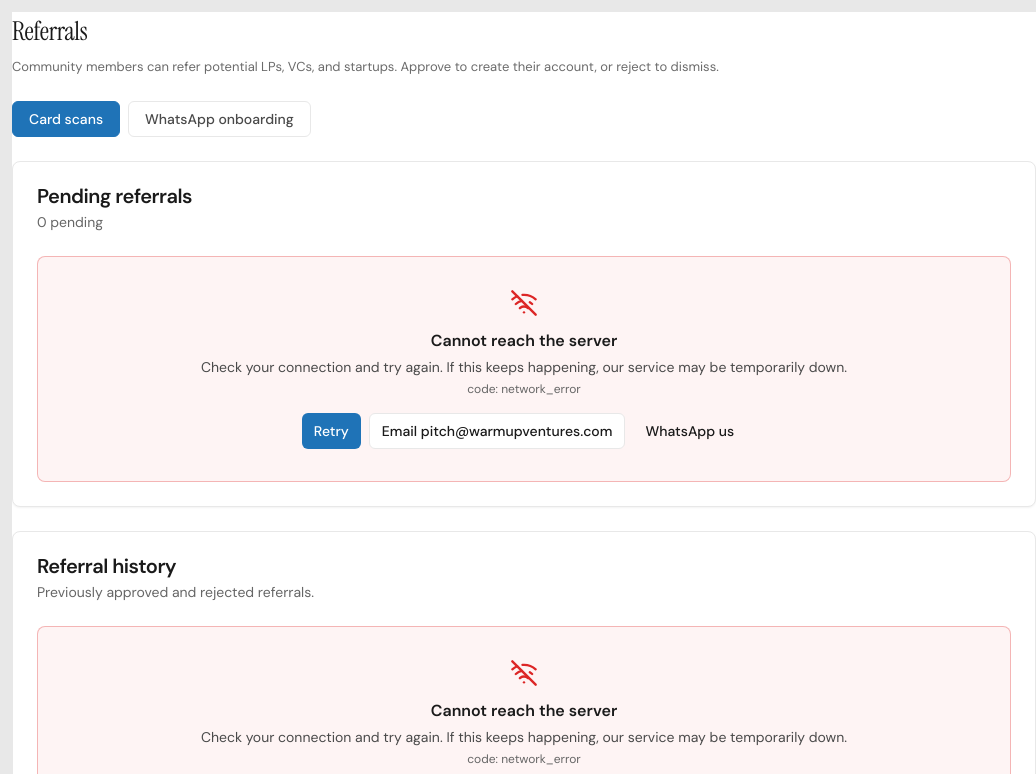
it: AdminReferralsPage — WhatsApp Onboarding tab › switching tabs swaps the URL ?tab= param
Expected: the tab with test id "referrals-tab-card-scans" is shown, [12,100,120,136]
Click the tab with test id "referrals-tab-whatsapp" at (219, 118), box [128,100,311,136]
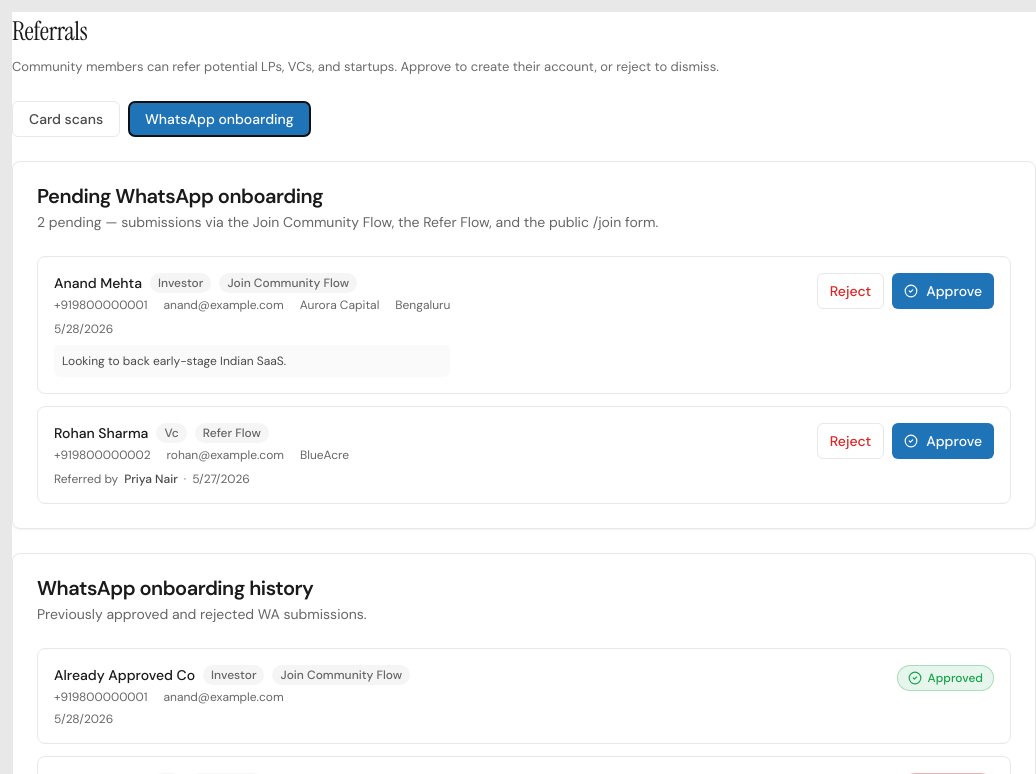
Now the element with test id "wa-onboarding-row-00000000-0000-4000-8000-000000000c01" is shown, box [37,256,1011,394]
